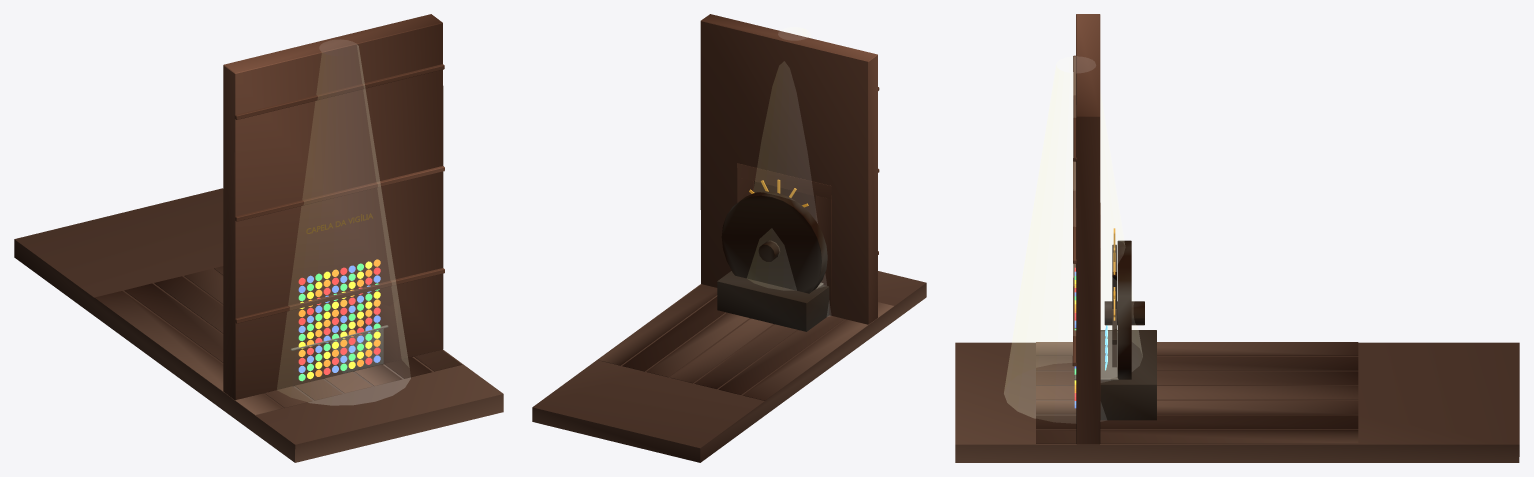
Rendered from capela.glb.
The picture shows the model from 3 angles, left to right: view 1: azimuth 30°, elevation 25°; view 2: azimuth 150°, elevation 25°; view 3: azimuth 270°, elevation 25°; orthographic projection. The views are drawn at different scales.
Parts seen in each view (by area): view 1: parede_capela, piso_capela, vitral, facho, porta_capela, altar; view 2: parede_capela, piso_capela, maquina_velha, porta_capela; view 3: piso_capela, facho, parede_capela, maquina_velha, altar.
Boxes of the visible parts, x1,y1,x2,y2 form: parede_capela: [223, 14, 444, 400]; piso_capela: [14, 188, 503, 462]; vitral: [294, 259, 383, 386]; facho: [293, 44, 410, 405]; porta_capela: [306, 213, 397, 365]; altar: [290, 325, 388, 373]; parede_capela: [700, 14, 879, 324]; piso_capela: [532, 271, 926, 462]; maquina_velha: [717, 191, 829, 331]; porta_capela: [737, 163, 831, 315]; piso_capela: [955, 342, 1519, 462]; facho: [1004, 56, 1141, 418]; parede_capela: [1072, 14, 1100, 444]; maquina_velha: [1100, 240, 1156, 420]; altar: [1074, 228, 1118, 380].
Bounding box in the file's own units: 6.01 × 9.5 × 14.
